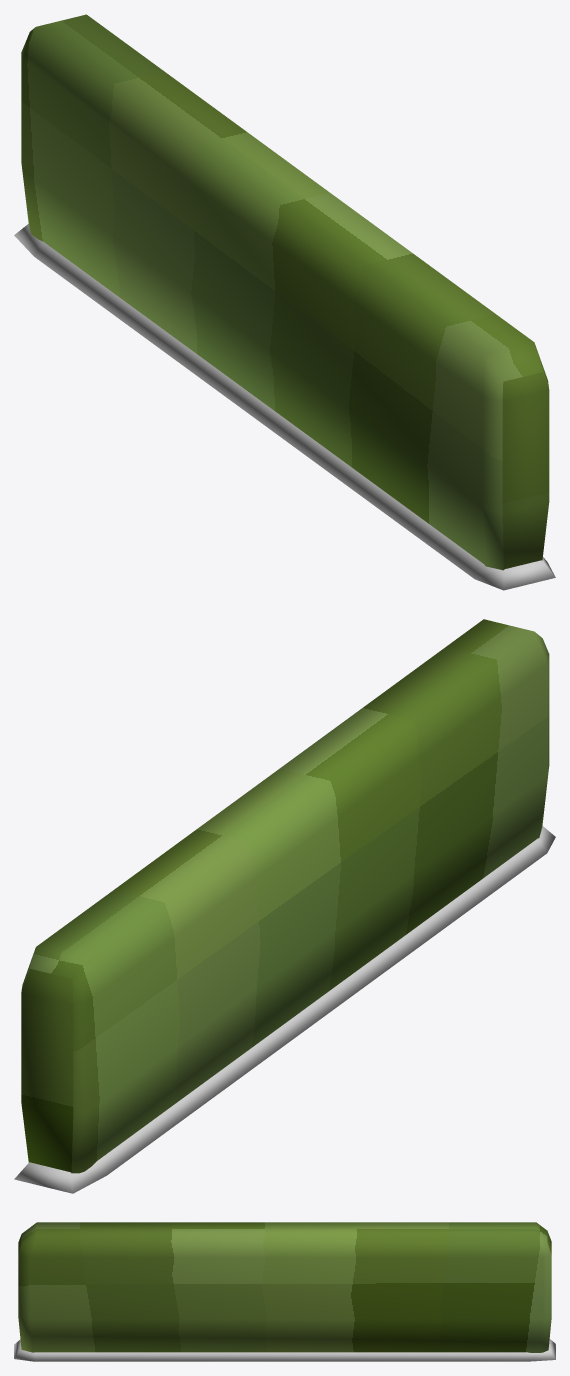
The model's file is JpHouseJ_Hedge01b.fbx.
3 renders of one model, top to bottom at view 1: azimuth 30°, elevation 25°; view 2: azimuth 150°, elevation 25°; view 3: azimuth 270°, elevation 25°, orthographic. The views are drawn at different scales.
Visible parts, largest first — view 1: JpHouseJ_Hedge01b; view 2: JpHouseJ_Hedge01b; view 3: JpHouseJ_Hedge01b.
Part boxes in pixels (box(x1,y1,x2,y2)): JpHouseJ_Hedge01b: box(14, 14, 555, 590); JpHouseJ_Hedge01b: box(14, 619, 555, 1193); JpHouseJ_Hedge01b: box(14, 1222, 555, 1361).
Size of the model in its own units: 0.5541 by 1.61 by 6.42.
